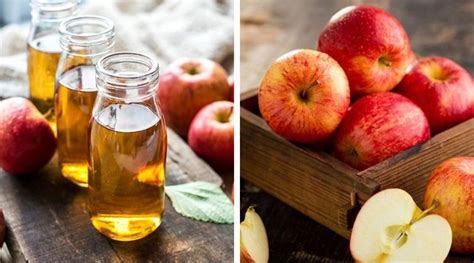apple: (256, 46, 353, 147), (315, 2, 412, 100), (1, 94, 64, 180), (402, 53, 473, 127), (156, 57, 228, 121), (186, 99, 234, 167)
